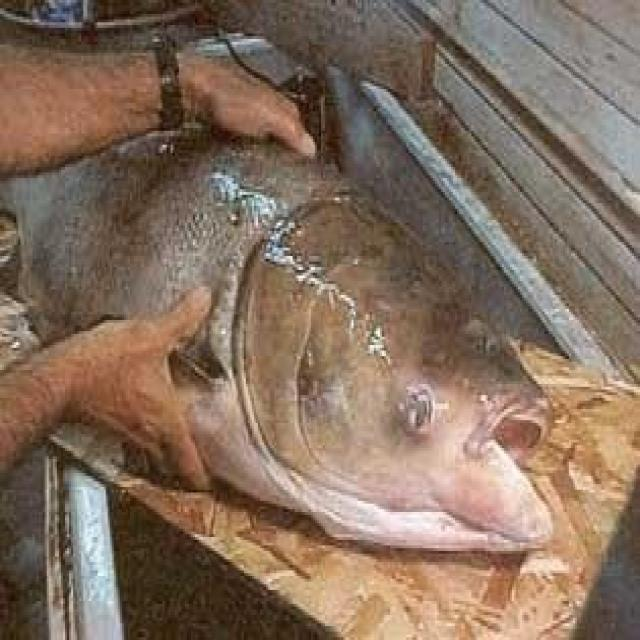Big-Head-Carp: (6, 143, 574, 576)
